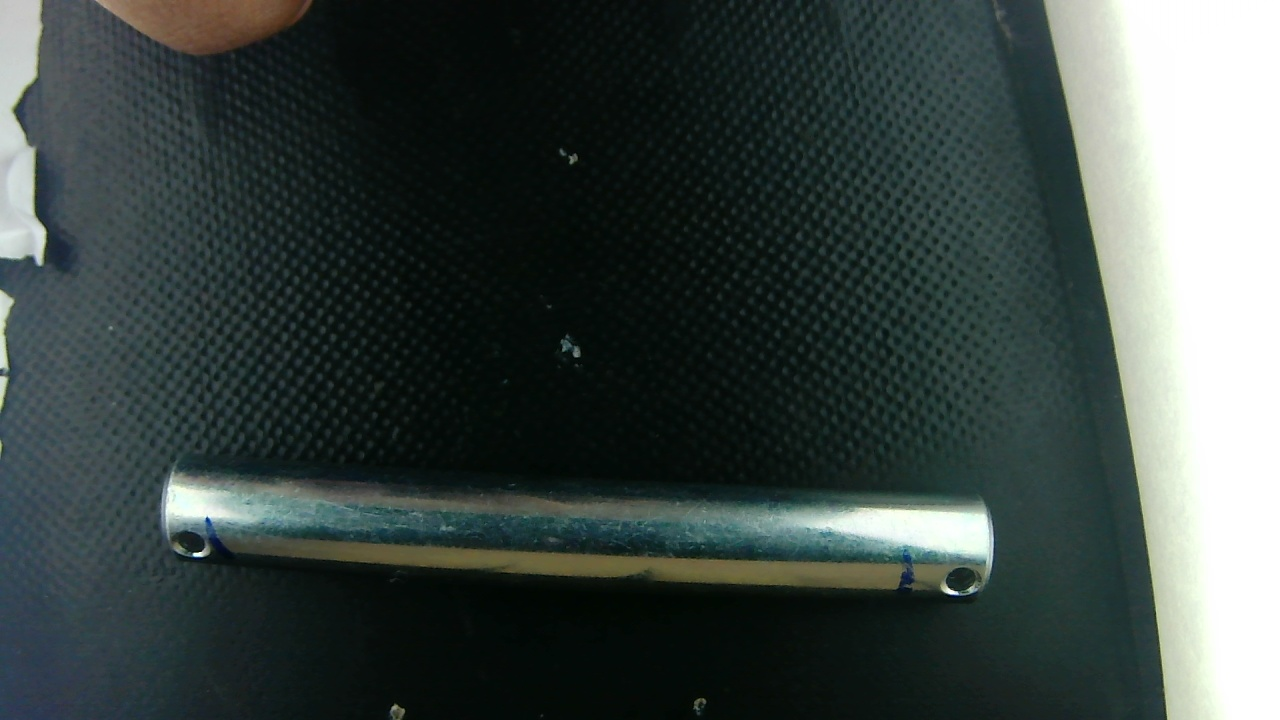Okay_Pin: (162, 460, 993, 597)
